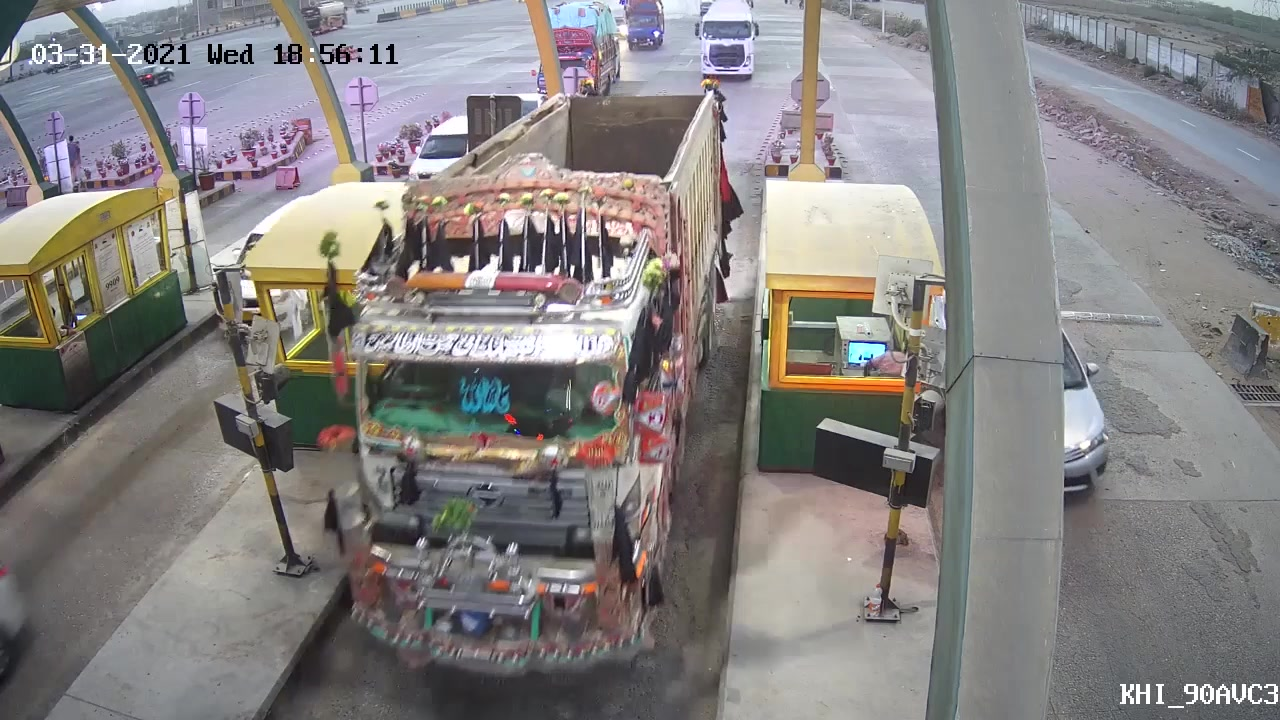F5: (317, 86, 725, 683)
